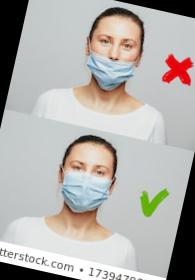mask_weared_incorrect: (84, 27, 141, 92)
with_mask: (57, 151, 116, 221)
